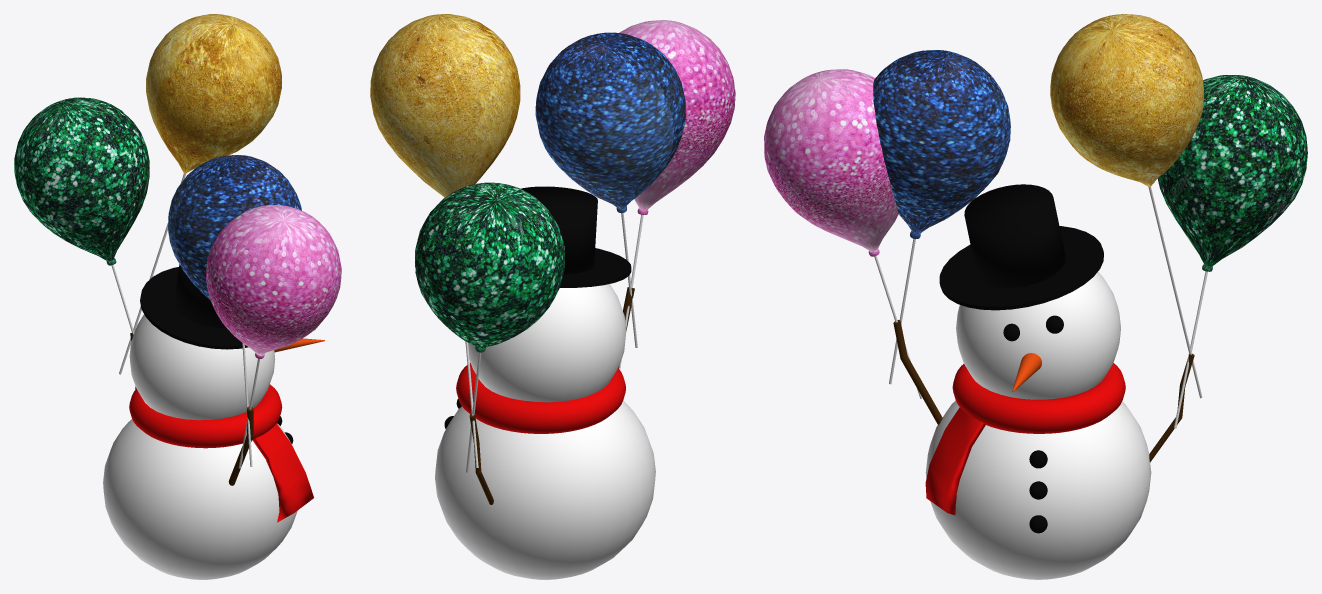
The model's file is snowman_with_balloons.glb.
3 renders of one model, left to right at view 1: azimuth 30°, elevation 25°; view 2: azimuth 150°, elevation 25°; view 3: azimuth 270°, elevation 25°, orthographic. The views are drawn at different scales.
Visible parts, largest first — view 1: Sphere.002, Sphere.010, Sphere.009, Sphere.008, Sphere, Sphere.007, Torus, Cylinder.002, Cube, Cylinder.001, Cylinder.004; view 2: Sphere.002, Sphere.009, Sphere.007, Sphere.010, Sphere, Sphere.008, Torus, Cylinder.001, Cylinder.002, Cylinder.003; view 3: Sphere.002, Sphere.009, Sphere.007, Sphere.010, Sphere.008, Sphere, Cylinder.001, Torus, Cylinder.002, Cube, Cylinder.004, Cylinder.007.
Boxes of the visible parts, left/top/right/bottom form: Sphere.002: left=103, top=419, right=297, bottom=579; Sphere.010: left=14, top=97, right=149, bottom=261; Sphere.009: left=146, top=14, right=281, bottom=173; Sphere.008: left=206, top=205, right=341, bottom=355; Sphere: left=129, top=314, right=275, bottom=420; Sphere.007: left=168, top=155, right=301, bottom=299; Torus: left=129, top=384, right=282, bottom=448; Cylinder.002: left=140, top=267, right=248, bottom=349; Cube: left=253, top=423, right=313, bottom=522; Cylinder.001: left=174, top=264, right=225, bottom=327; Cylinder.004: left=228, top=406, right=253, bottom=485; Sphere.002: left=435, top=400, right=655, bottom=579; Sphere.009: left=370, top=14, right=520, bottom=197; Sphere.007: left=535, top=32, right=685, bottom=209; Sphere.010: left=415, top=182, right=564, bottom=348; Sphere: left=465, top=284, right=626, bottom=402; Sphere.008: left=619, top=20, right=735, bottom=210; Torus: left=456, top=362, right=625, bottom=433; Cylinder.001: left=521, top=186, right=597, bottom=274; Cylinder.002: left=560, top=248, right=631, bottom=287; Cylinder.003: left=469, top=413, right=493, bottom=504; Sphere.002: left=925, top=400, right=1151, bottom=579; Sphere.009: left=1050, top=14, right=1203, bottom=186; Sphere.007: left=873, top=50, right=1010, bottom=234; Sphere.010: left=1157, top=75, right=1307, bottom=266; Sphere.008: left=764, top=69, right=898, bottom=251; Sphere: left=956, top=272, right=1120, bottom=399; Cylinder.001: left=964, top=184, right=1065, bottom=288; Torus: left=952, top=363, right=1125, bottom=433; Cylinder.002: left=939, top=226, right=1103, bottom=310; Cube: left=925, top=407, right=985, bottom=515; Cylinder.004: left=893, top=320, right=942, bottom=424; Cylinder.007: left=1148, top=186, right=1202, bottom=398.
Size of the model in its own units: 3.49 by 8.27 by 7.07.
Materials: 15 (8 with a texture image).
